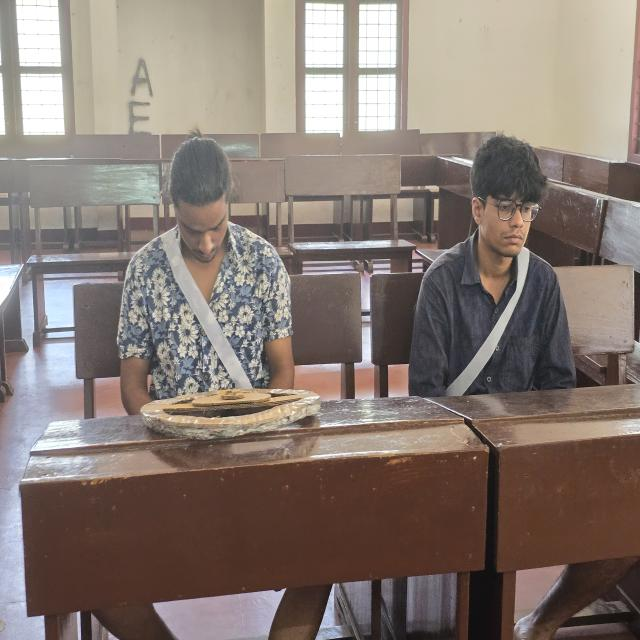seatbelt: (426, 255, 557, 395)
